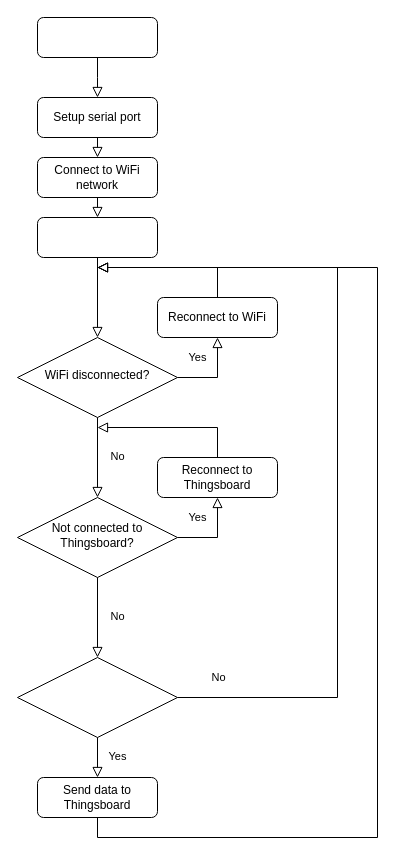
Image size: 405x865. Some labels were removed from this diagram. Here are the shapes that lost their labels. From the top down, the centre of each, then its label:
At point 97,37: "Start".
At point 97,237: "Initialize temp sensors".
At point 97,697: "Is it time to send data ?".
